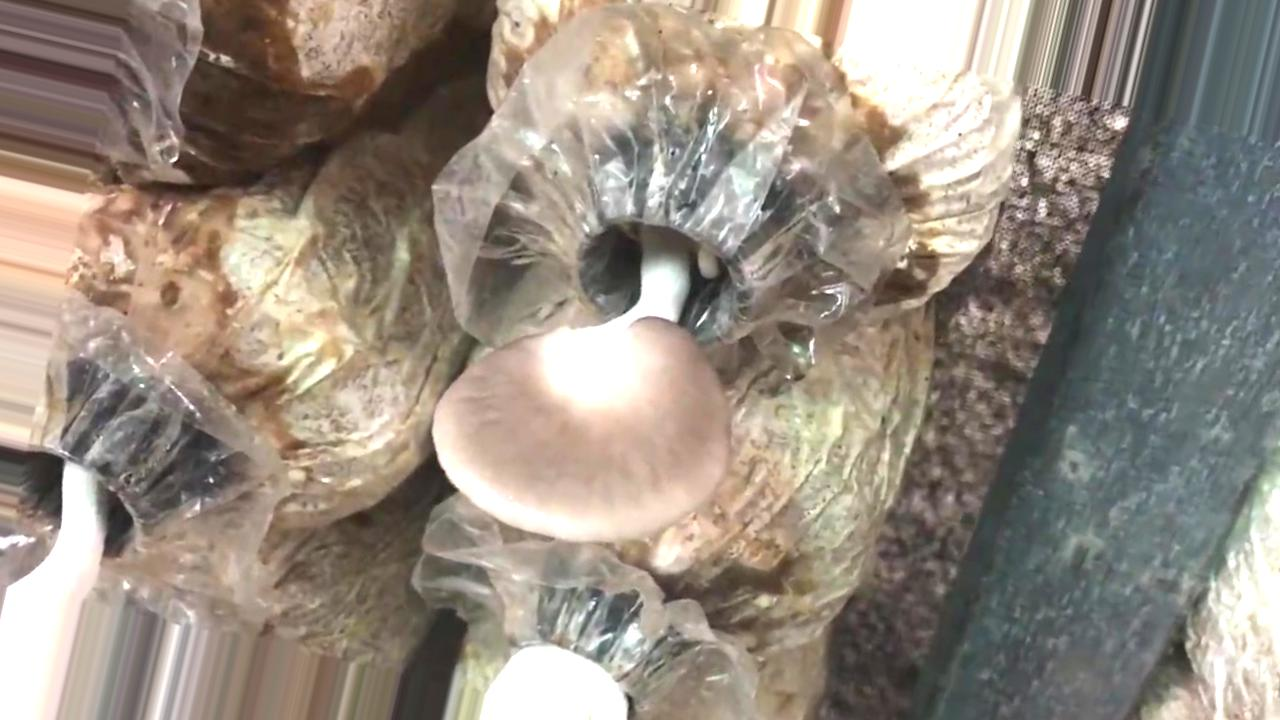nam: (428, 139, 734, 546)
